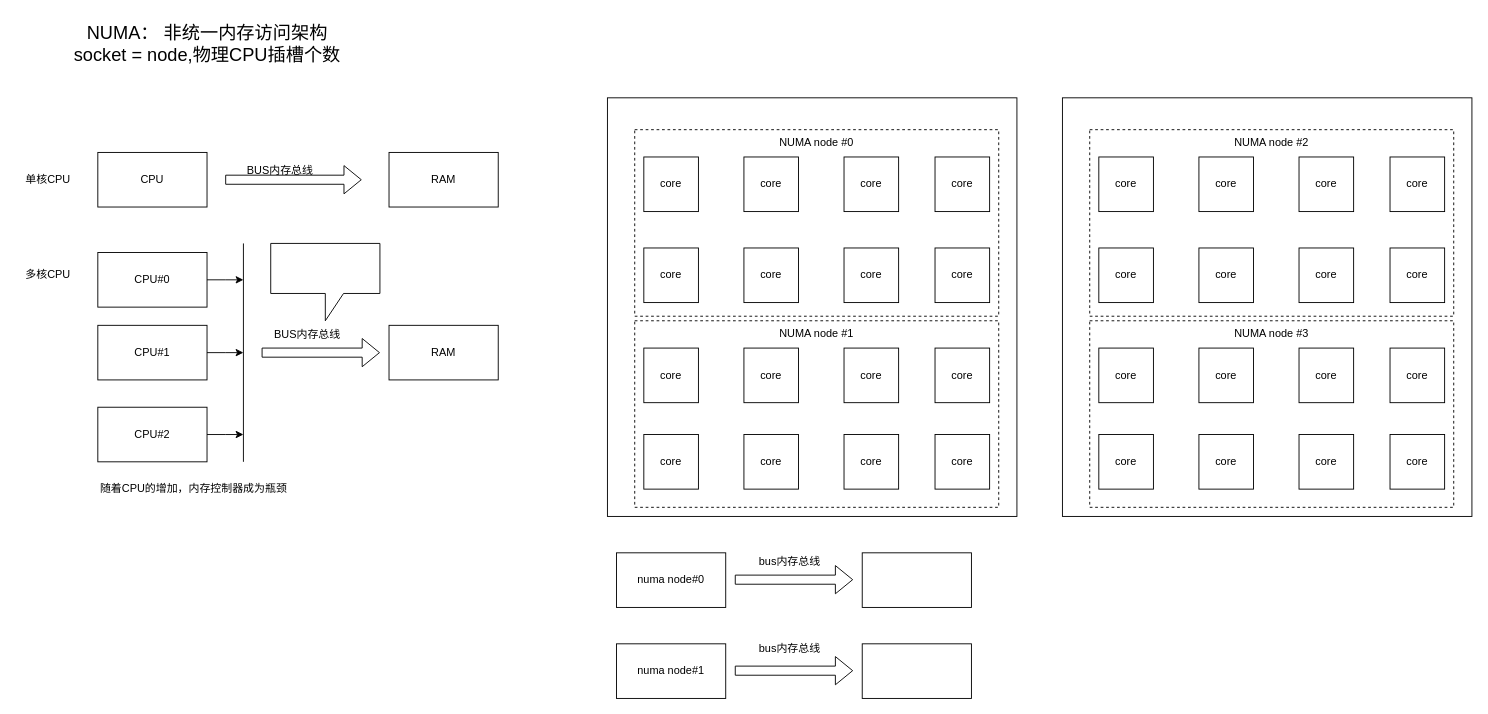
The diagram is 1488 pixels wide and 714 high, and some of its shapes have lost their labels. The box of each missing label's shape, as (x1, y1, x2, y2) in pixels:
RAM#0: (861, 552, 971, 607)
RAM#1: (861, 643, 971, 698)
socket #0 = CPU物理插槽 = node: (607, 97, 1017, 516)
socket #1 = CPU物理插槽 = node: (1062, 97, 1472, 516)
瓶颈: (270, 243, 380, 321)
